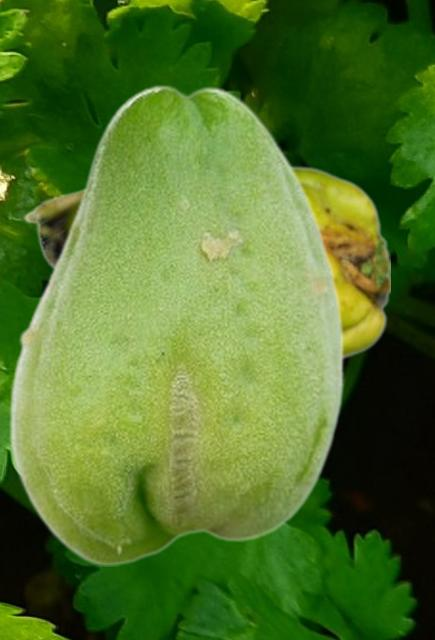sayote: (7, 83, 344, 565), (22, 165, 389, 361)
